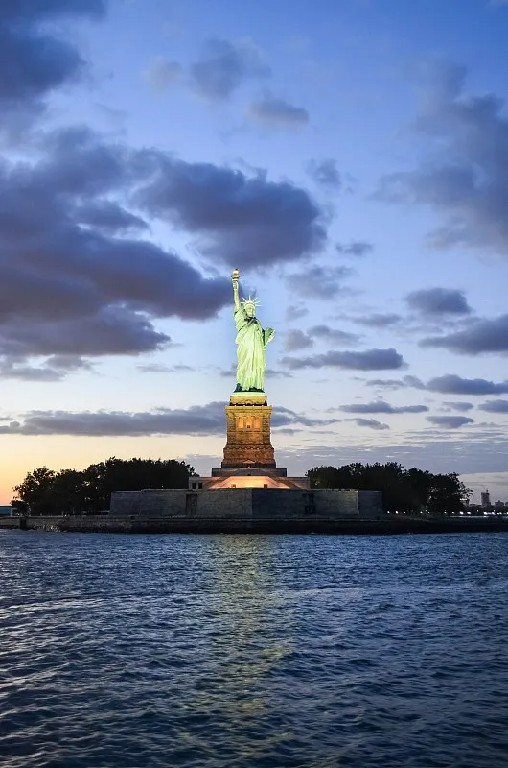SL: (212, 268, 288, 476)
